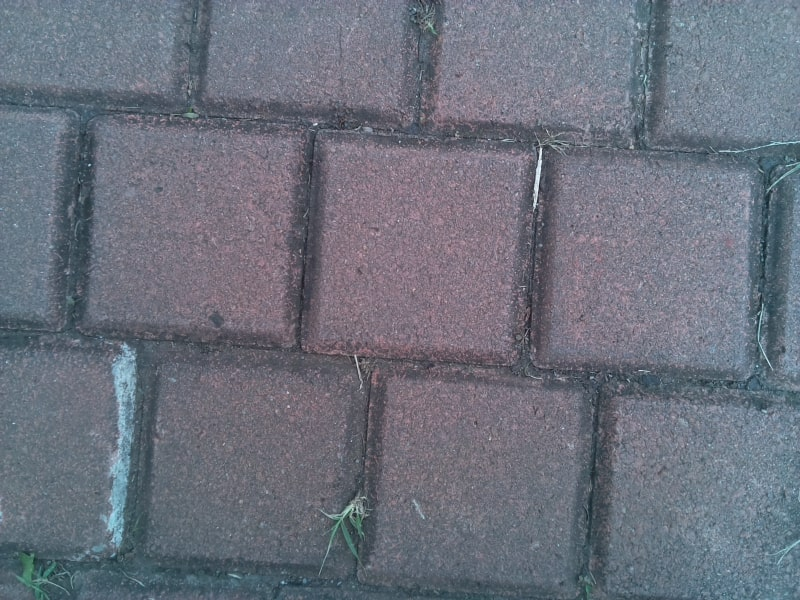Weed: (320, 490, 370, 572), (8, 548, 77, 596), (407, 1, 446, 37), (530, 125, 569, 156)
